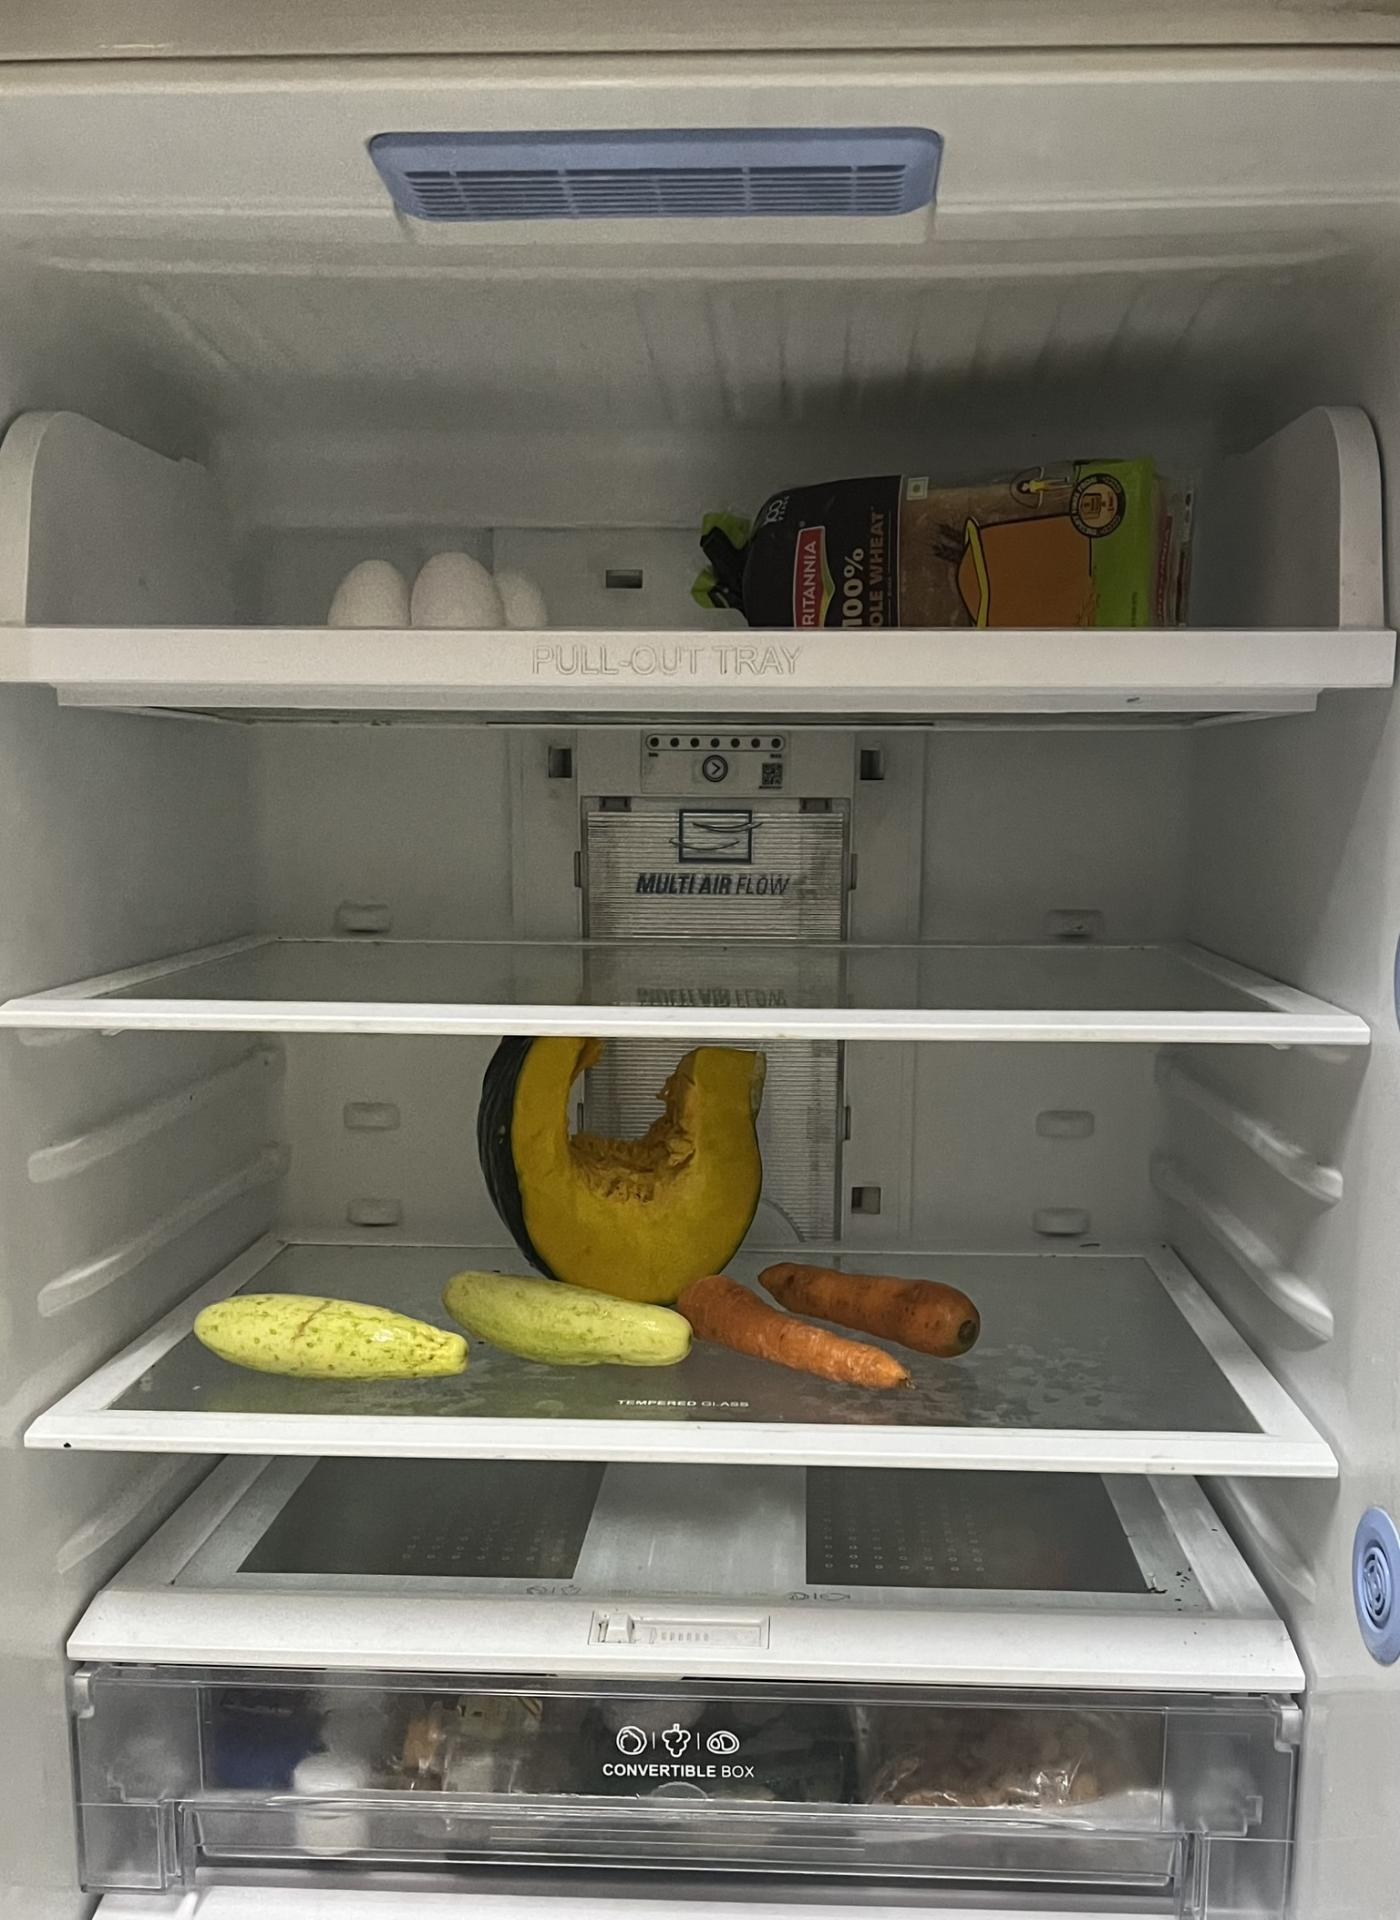bread: (695, 459, 1191, 635)
carrots: (677, 1260, 987, 1395)
cucumber: (182, 1286, 465, 1383), (443, 1270, 701, 1365)
egg: (328, 553, 556, 625)
pumpkin: (474, 1040, 769, 1294)
